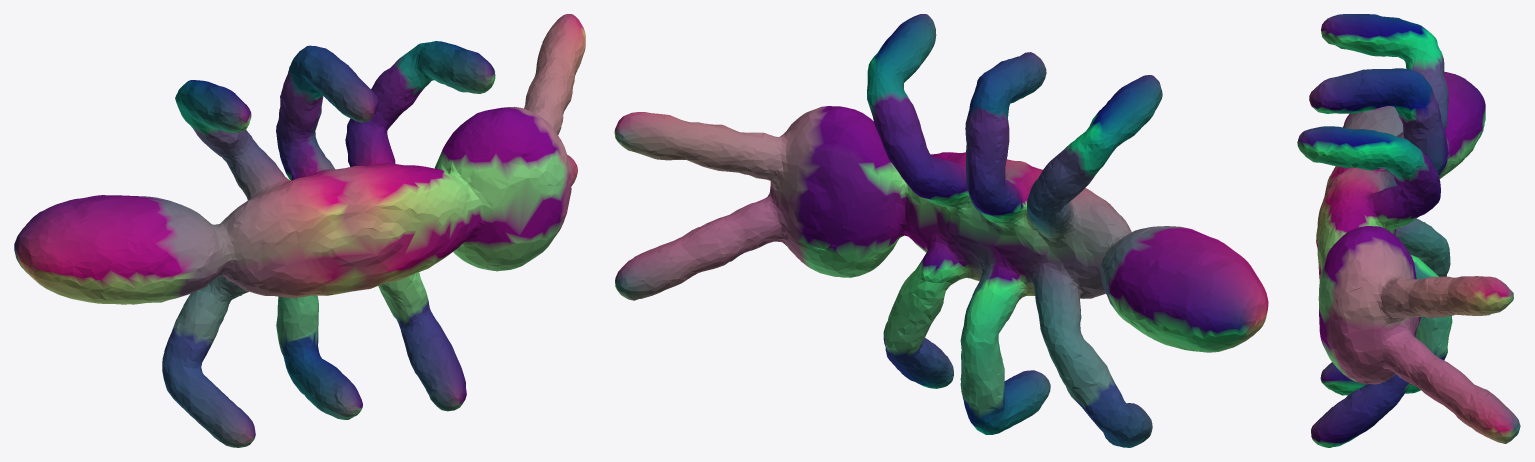
File: ant-9.off.obj
3 renders of one model, left to right at view 1: azimuth 30°, elevation 25°; view 2: azimuth 150°, elevation 25°; view 3: azimuth 270°, elevation 25°, orthographic. The views are drawn at different scales.
Size of the model in its own units: 1.67 by 0.9626 by 0.5804.
